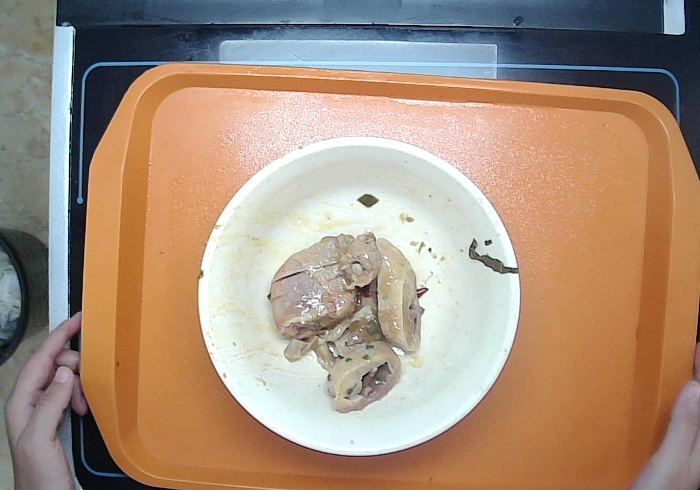ZNLD-Da_Tang_Wan: (193, 133, 526, 458)
